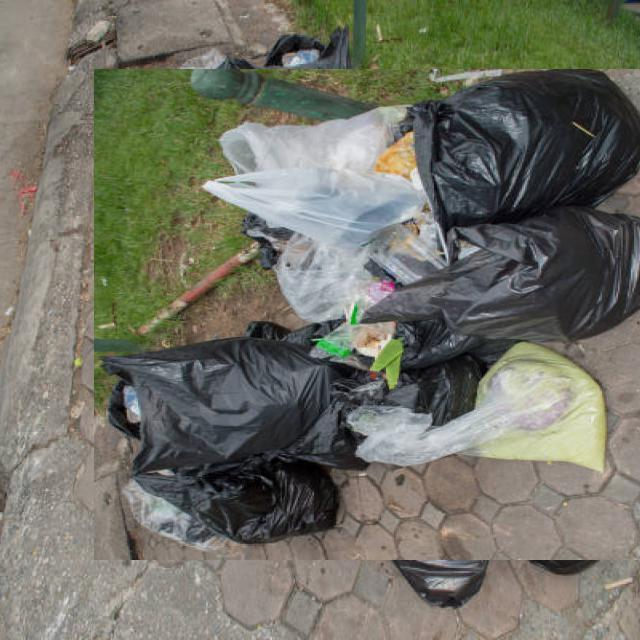Trashbag: (62, 318, 345, 452), (401, 71, 637, 201), (425, 209, 640, 344), (105, 442, 343, 558), (370, 312, 492, 368), (411, 366, 486, 426)
